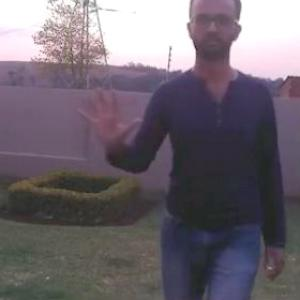follow_hand: (77, 81, 143, 149)
